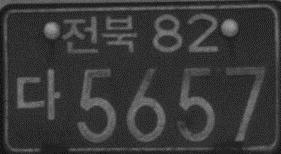2: (186, 13, 221, 55)
5: (75, 66, 118, 141), (175, 67, 217, 142)
6: (127, 68, 171, 146)
7: (222, 62, 267, 143)
8: (150, 10, 181, 54)
다: (14, 67, 62, 119)
전북_O: (62, 15, 140, 54)
